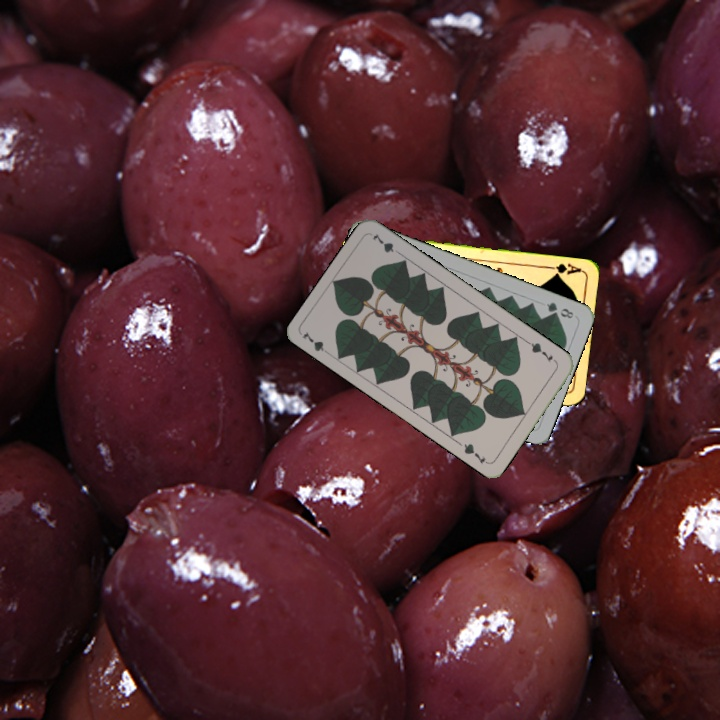G7: (298, 327, 335, 359), (524, 338, 555, 365)
G8: (543, 298, 576, 321)
GA: (543, 260, 583, 279)
